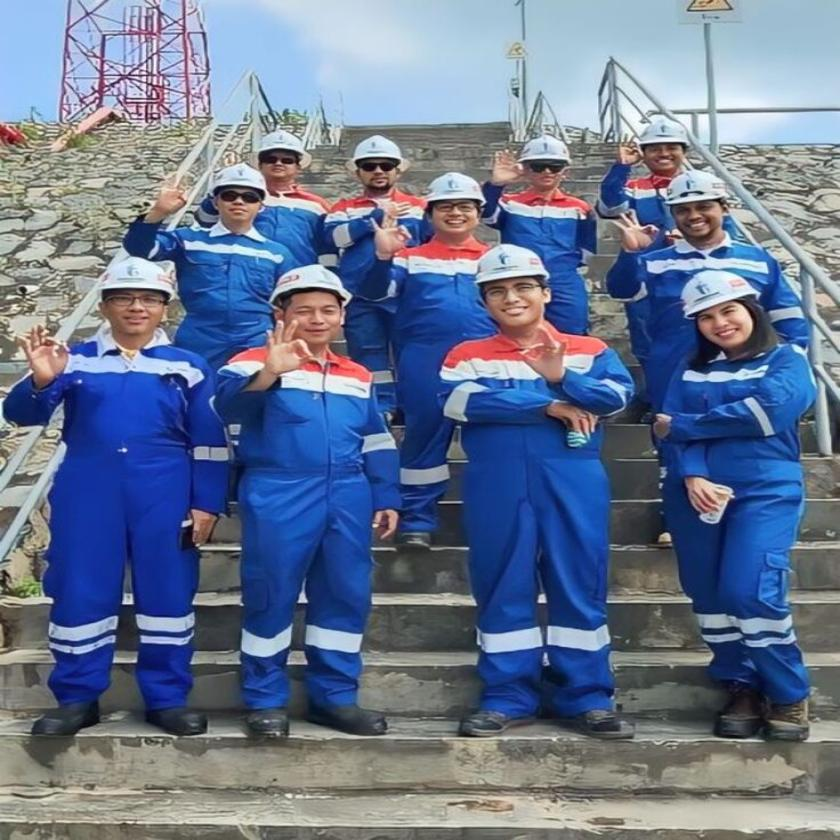Con_casco: (675, 270, 770, 361), (470, 245, 551, 337), (93, 259, 179, 345), (266, 265, 352, 350), (662, 166, 729, 249), (420, 169, 490, 244), (200, 160, 268, 237), (251, 126, 318, 196), (347, 134, 408, 202), (510, 134, 574, 196), (634, 117, 692, 180)
